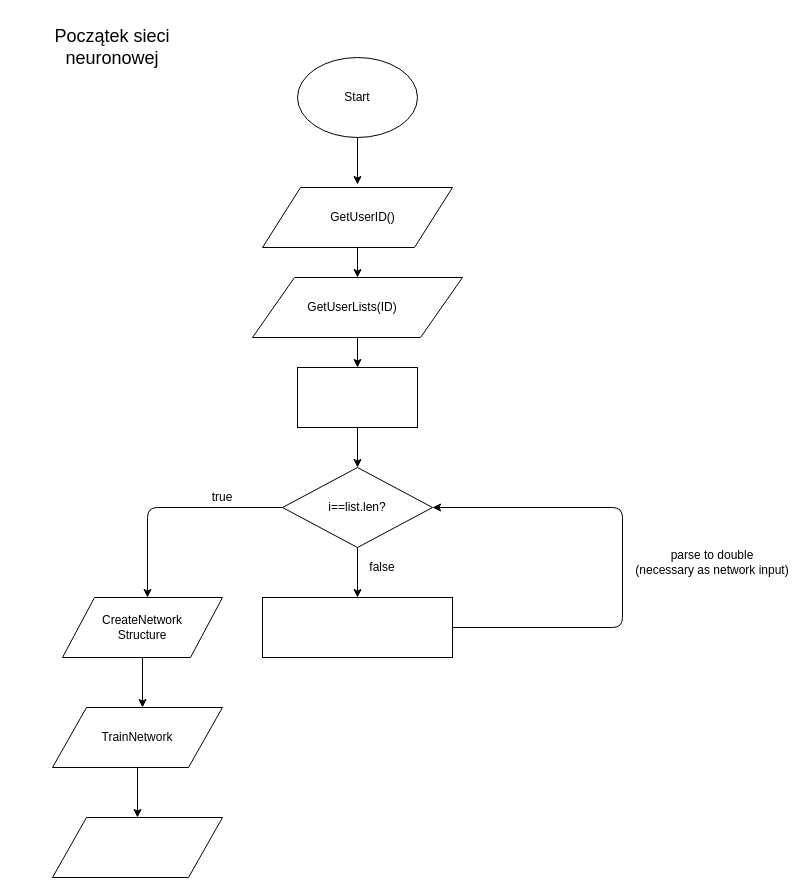
Some shapes in this 809 by 895 pixel diagram are drawn without their labels. The shapes that lost their labels are listed below. From the top down, each one's centre as x and y in pixels, then its label:
At pixel 357 397: "i=0".
At pixel 357 627: "double input[i]=list.prod[i].ID i++".
At pixel 137 847: "Evaluate".
